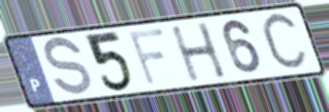5: (81, 28, 136, 93)
6: (221, 18, 264, 76)
C: (259, 8, 311, 76)
F: (126, 25, 169, 88)
H: (167, 20, 230, 84)
S: (42, 34, 94, 100)
